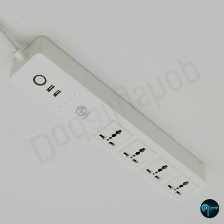three_eye_plug: (6, 32, 211, 204)
